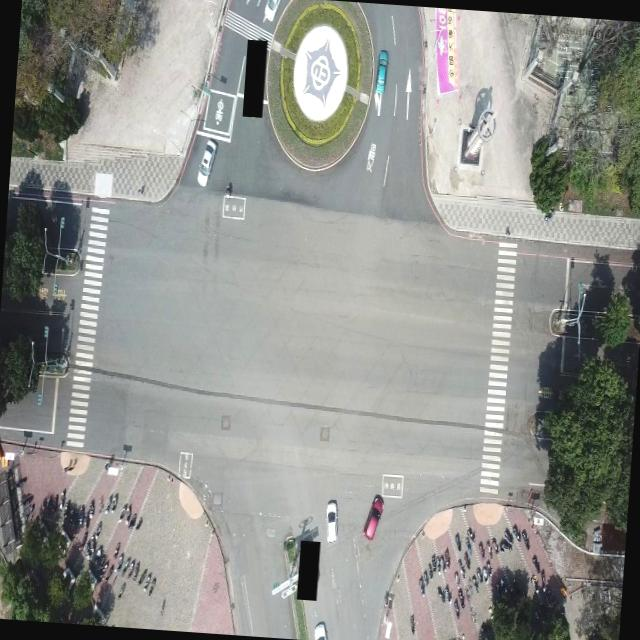bike: (19, 490, 34, 510), (437, 580, 448, 604), (40, 491, 52, 513), (462, 546, 472, 572), (441, 548, 451, 574), (531, 552, 542, 574), (452, 564, 462, 588), (499, 534, 510, 555), (418, 572, 428, 595), (521, 528, 531, 550), (464, 524, 474, 546), (476, 538, 486, 560), (140, 568, 149, 592), (126, 556, 135, 580), (470, 572, 479, 596), (452, 598, 461, 621), (408, 611, 417, 634), (478, 562, 488, 582), (453, 530, 462, 552), (93, 518, 102, 540), (14, 471, 26, 487), (108, 490, 116, 513), (487, 535, 496, 555), (147, 572, 154, 596), (112, 540, 120, 560), (118, 580, 126, 600), (512, 523, 520, 542), (87, 497, 94, 518), (134, 559, 140, 583), (431, 554, 438, 574), (59, 484, 66, 504), (224, 180, 232, 197), (124, 503, 130, 524), (134, 510, 140, 530), (458, 634, 465, 640)
car: (360, 492, 386, 540), (196, 137, 217, 184), (372, 47, 388, 94), (324, 498, 339, 543), (312, 617, 328, 640)
